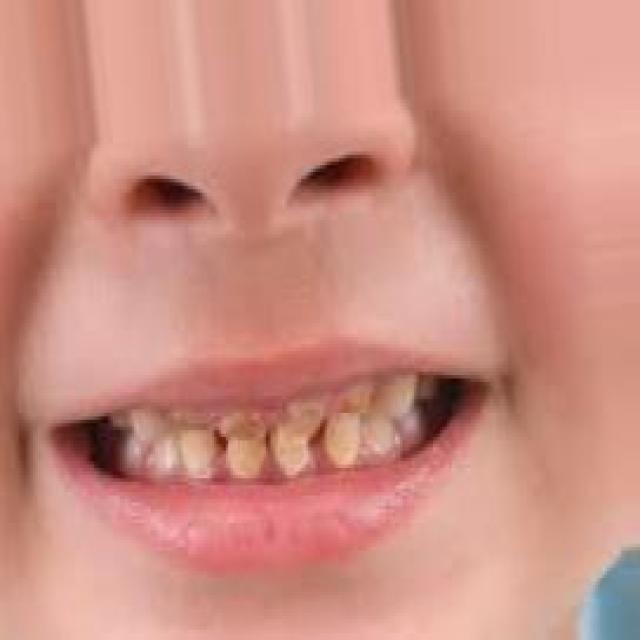caries: (213, 400, 268, 444), (281, 389, 325, 438), (332, 376, 376, 422), (168, 402, 214, 437)
